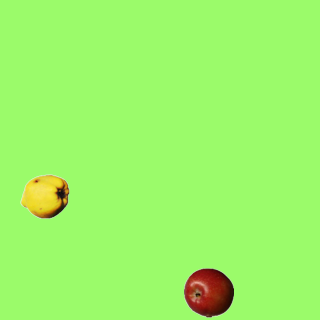Apple Braeburn: (183, 267, 233, 317)
Quince: (19, 171, 69, 221)
